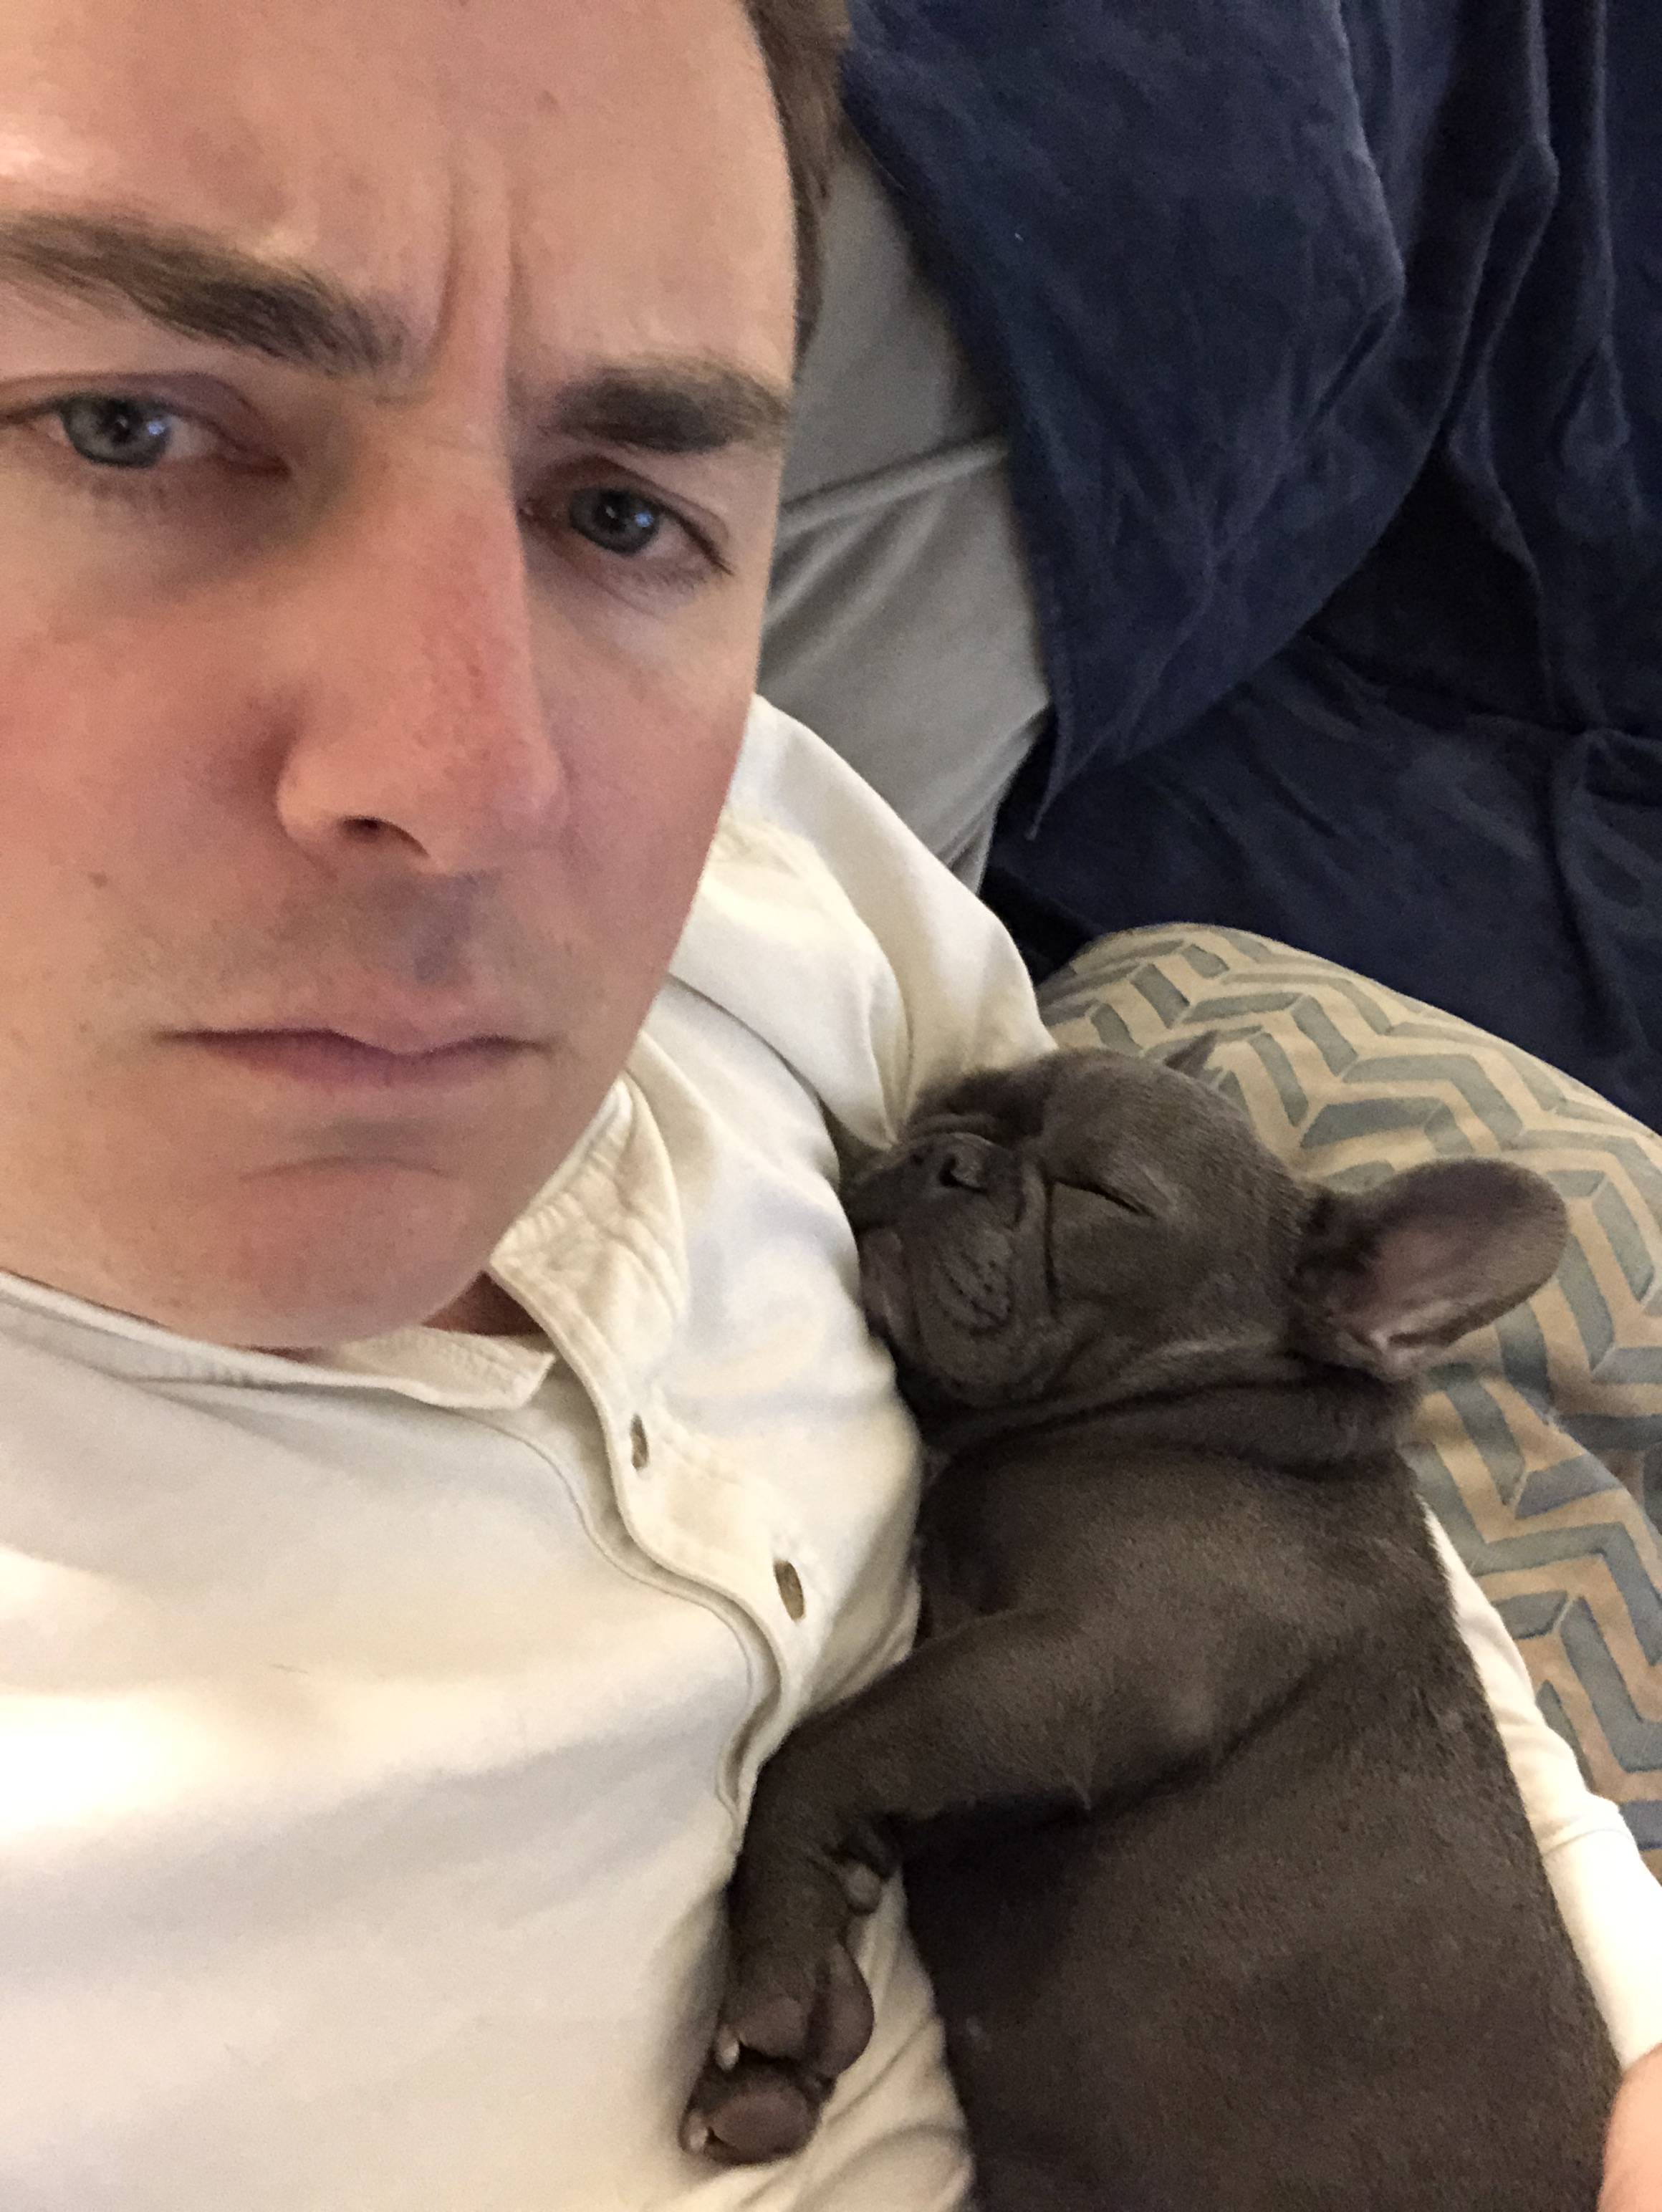lucy: (674, 1016, 1606, 2202)
